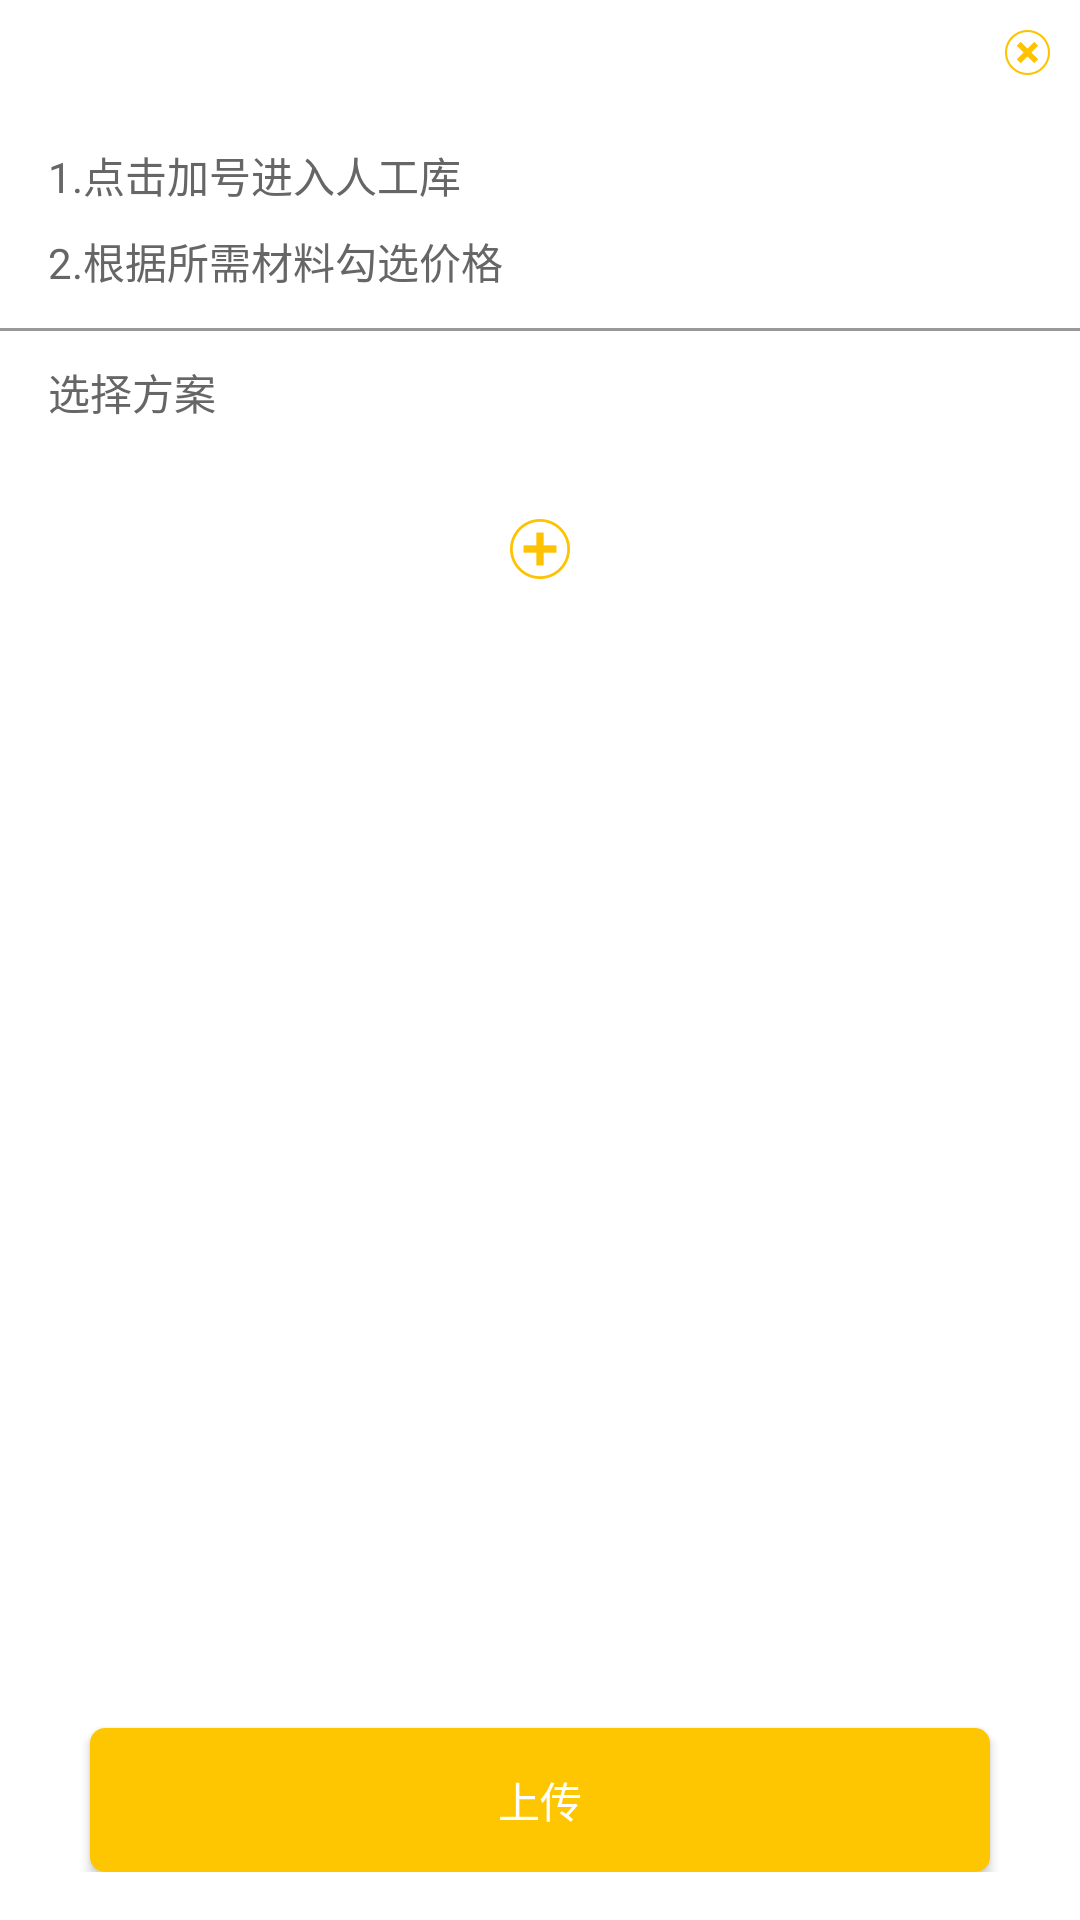

Screen size 1080x1920. Icon name, then its center in pixels as (x=x, y=y):
add: (x=540, y=549)
close: (x=1027, y=52)
